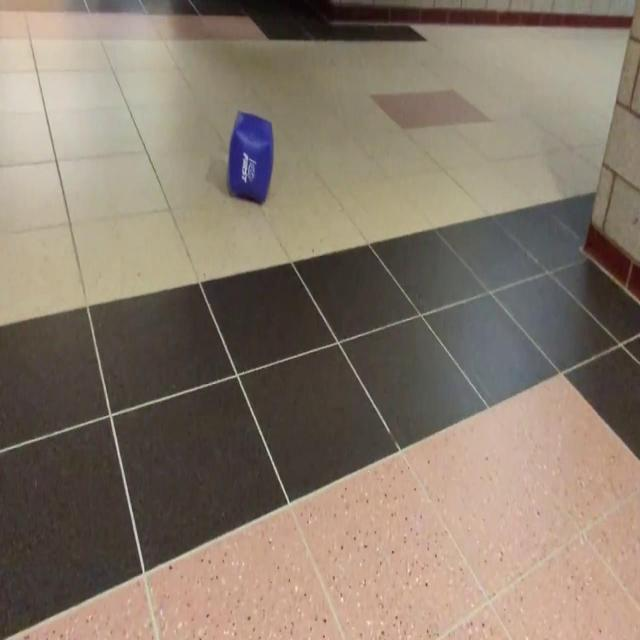frc_cube: (227, 111, 273, 205)
